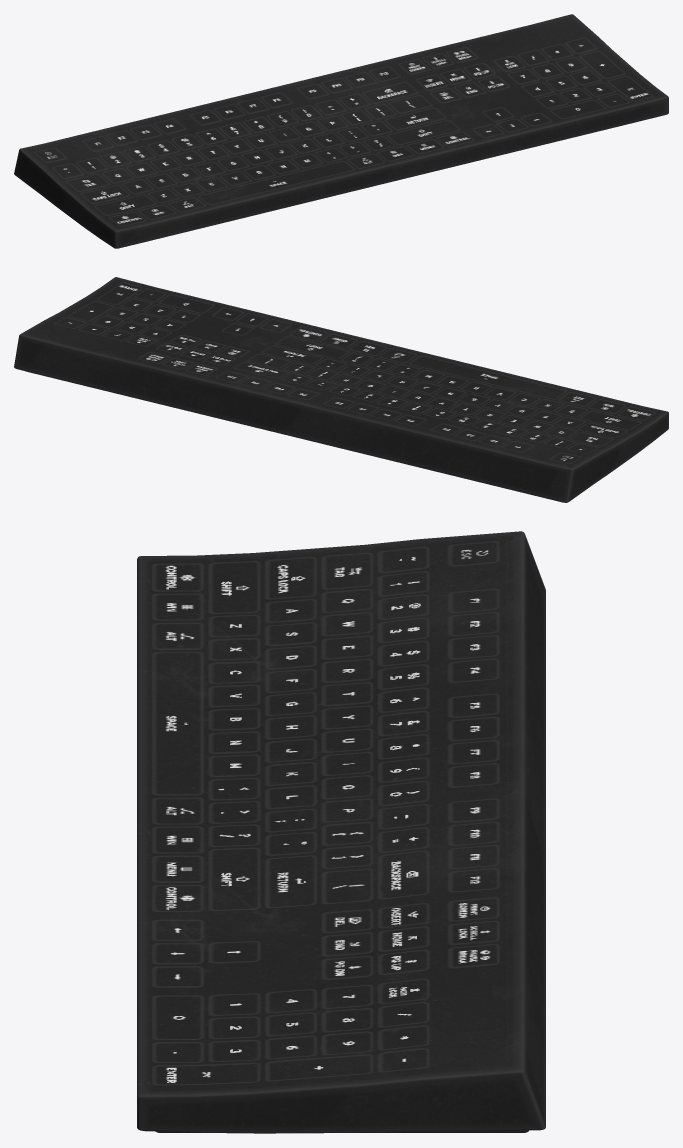
Rendered from basic_keyboard.glb.
The picture shows the model from 3 angles, top to bottom: view 1: azimuth 30°, elevation 25°; view 2: azimuth 150°, elevation 25°; view 3: azimuth 270°, elevation 25°; orthographic projection. The views are drawn at different scales.
Visible parts, largest first — view 1: SM_Keyboard; view 2: SM_Keyboard; view 3: SM_Keyboard.
Boxes of the visible parts, left/top/right/bottom form: SM_Keyboard: left=14, top=14, right=668, bottom=248; SM_Keyboard: left=14, top=277, right=668, bottom=502; SM_Keyboard: left=137, top=531, right=545, bottom=1133.
Bounding box in the file's own units: 0.4528 × 0.027 × 0.1446.
1 material, 1 textured.
